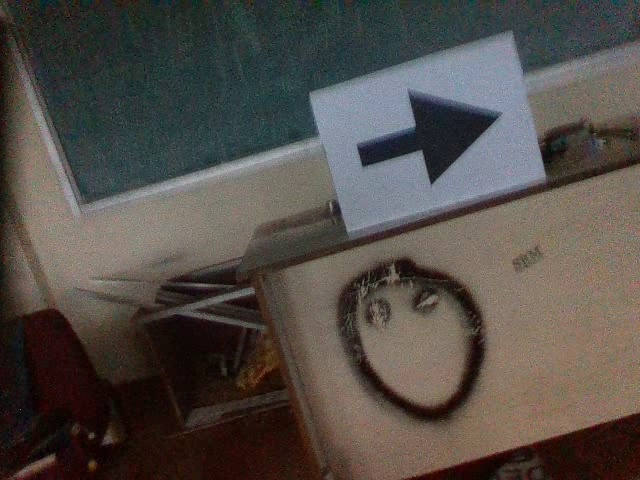Right: (347, 87, 507, 187)
